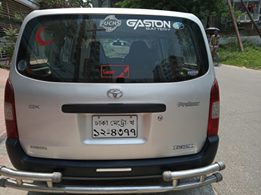car: (4, 4, 224, 189)
